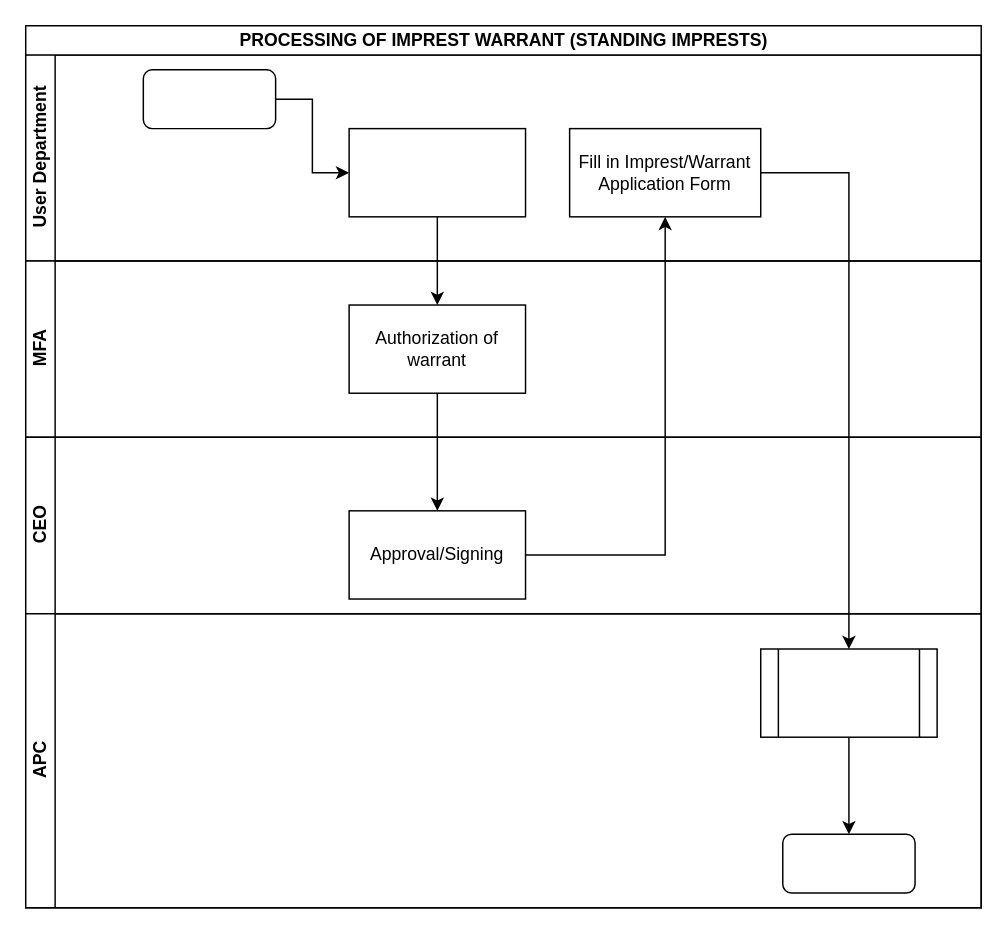
Some shapes in this 1007 by 933 pixel diagram are drawn without their labels. The shapes that lost their labels are listed below. From the top down, each one's box as (x1, y1, x2, y2) in pixels, then its label:
(142, 68, 276, 129): Start
(348, 127, 526, 217): Prepare request for activities as per work plans
(759, 648, 937, 737): Process payment
(781, 833, 915, 893): End
